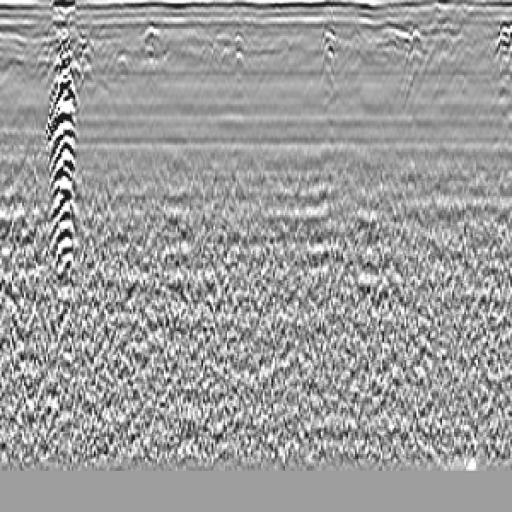metalic: (27, 30, 103, 291)
